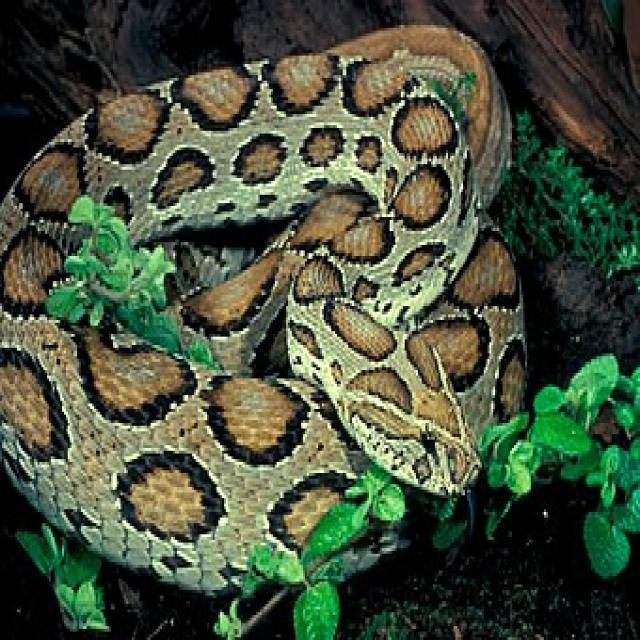Snake: (0, 19, 529, 598)
